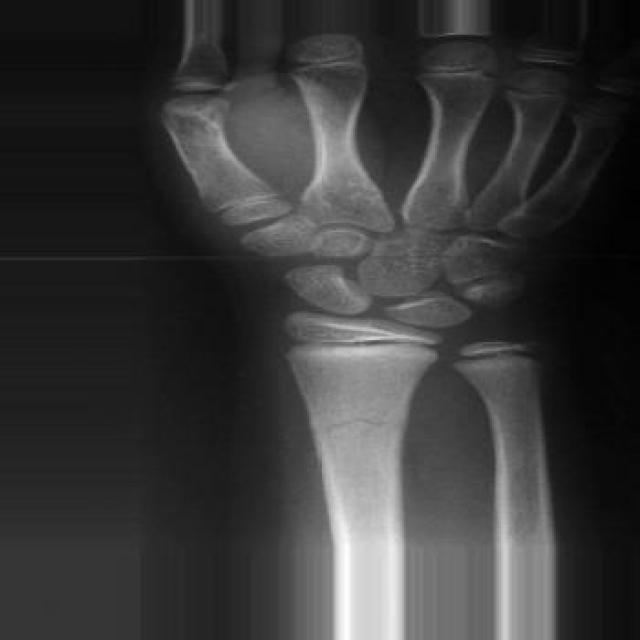Fracture: (306, 412, 420, 446)
